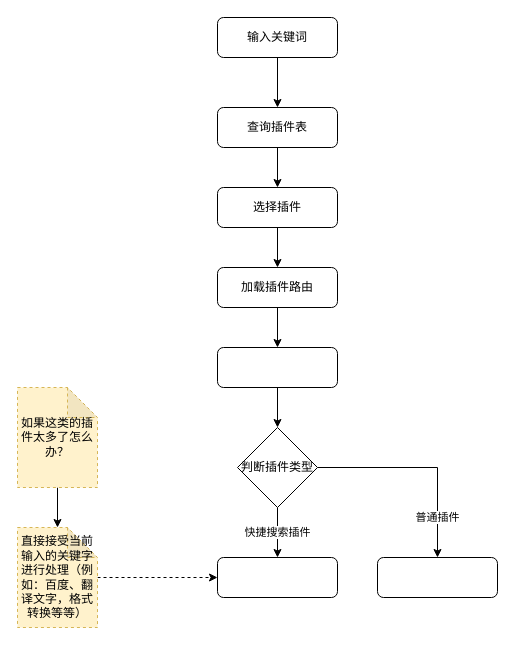
The diagram is 515 pixels wide and 645 high, and some of its shapes have lost their labels. The centre of each missing label's shape, as x and y in pixels:
"初始化插件iframe" goes at pixel 277 367.
"发送搜索关键字给插件" goes at pixel 277 577.
"显示插件页面" goes at pixel 437 577.
